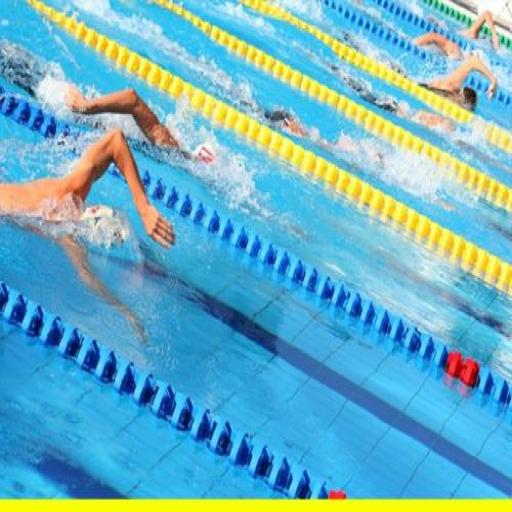swimming: (0, 125, 177, 348), (0, 30, 217, 172)
